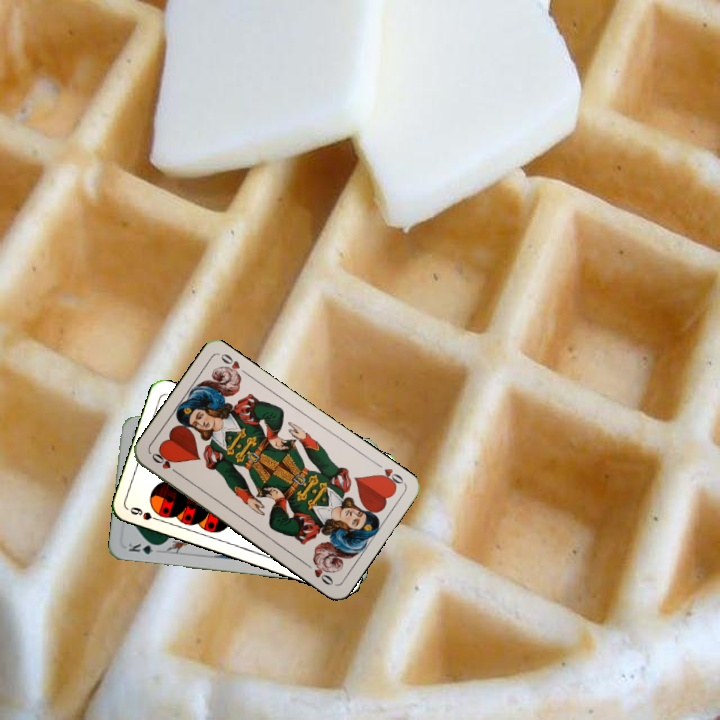GK: (124, 539, 164, 557)
HO: (147, 449, 182, 478), (373, 464, 406, 491)
S9: (126, 503, 165, 524)
